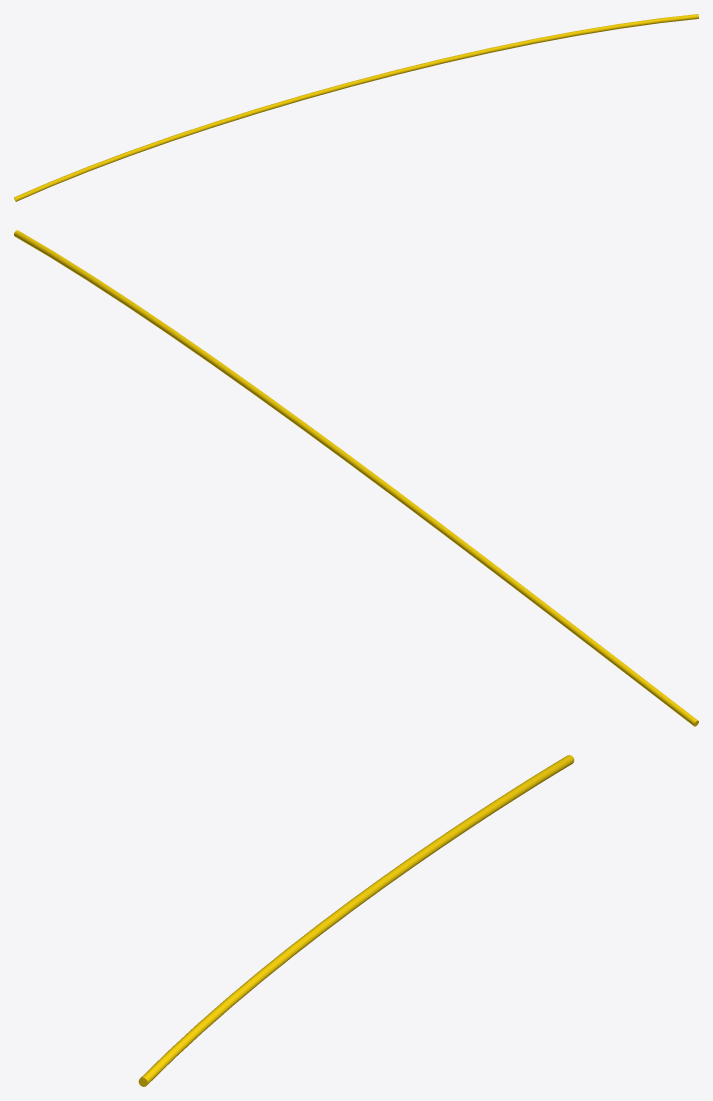
File: Event_421115418_track_196.fbx
3 views of the same model, one above another, from view 1: azimuth 30°, elevation 25°; view 2: azimuth 150°, elevation 25°; view 3: azimuth 270°, elevation 25° (orthographic). The views are drawn at different scales.
Visible parts, largest first — view 1: Model; view 2: Model; view 3: Model.
Part boxes in pixels (x1,y1,x2,y2): Model: (14,14,698,201); Model: (14,230,698,726); Model: (138,755,574,1086).
Bounding box in the file's own units: 5.41 × 1.12 × 1.77.
